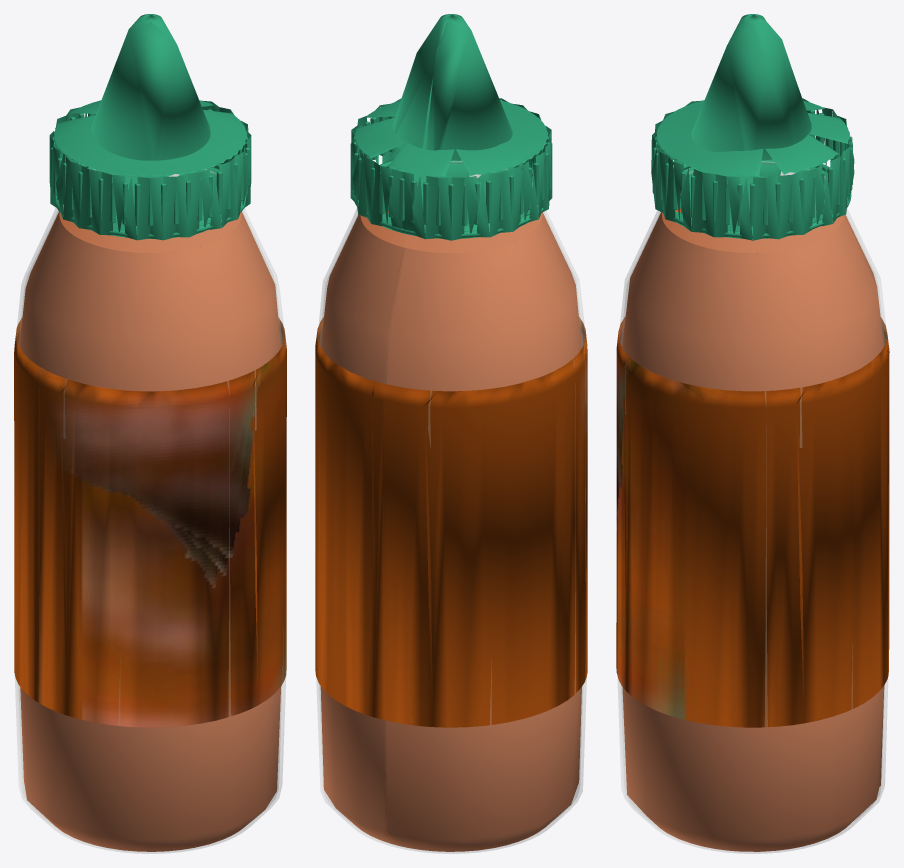
3 renders of one model, left to right at view 1: azimuth 30°, elevation 25°; view 2: azimuth 150°, elevation 25°; view 3: azimuth 270°, elevation 25°, orthographic.
Visible parts, largest first — view 1: profile-conforming printed label, thin shell with corrected shoulder, separate contents, removable closure, tapered nozzle; view 2: profile-conforming printed label, thin shell with corrected shoulder, separate contents, removable closure, tapered nozzle, closure lower bead; view 3: profile-conforming printed label, thin shell with corrected shoulder, separate contents, removable closure, tapered nozzle, closure lower bead.
Boxes of the visible parts, box(x1,y1,x2,y2) form: profile-conforming printed label: box(14, 317, 286, 727); thin shell with corrected shoulder: box(15, 169, 285, 853); separate contents: box(19, 204, 280, 851); removable closure: box(49, 100, 251, 240); tapered nozzle: box(91, 14, 210, 160); profile-conforming printed label: box(315, 317, 587, 727); thin shell with corrected shoulder: box(316, 161, 586, 853); separate contents: box(320, 177, 581, 851); removable closure: box(350, 98, 552, 240); tapered nozzle: box(392, 14, 512, 160); closure lower bead: box(353, 159, 543, 237); profile-conforming printed label: box(616, 316, 889, 727); thin shell with corrected shoulder: box(617, 161, 887, 853); separate contents: box(622, 207, 884, 851); removable closure: box(651, 98, 854, 240); tapered nozzle: box(691, 14, 814, 160); closure lower bead: box(655, 163, 851, 237).
Bounding box in the file's own units: 0.0578 × 0.1851 × 0.0578.
Materials: 5 (1 with a texture image).
